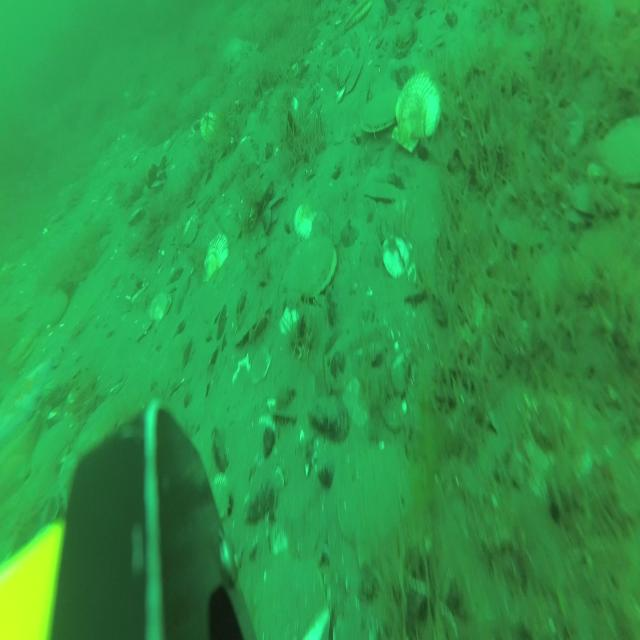scallop: (391, 72, 442, 150), (288, 240, 339, 308), (598, 108, 640, 186), (360, 90, 399, 133), (294, 198, 332, 242), (382, 235, 410, 278), (206, 234, 229, 282), (342, 0, 374, 34), (9, 332, 36, 369), (45, 289, 67, 326), (180, 206, 200, 246), (344, 55, 362, 97), (148, 292, 174, 320), (337, 46, 354, 84), (201, 109, 219, 142), (310, 214, 328, 246)
starfish: (0, 357, 55, 443)
